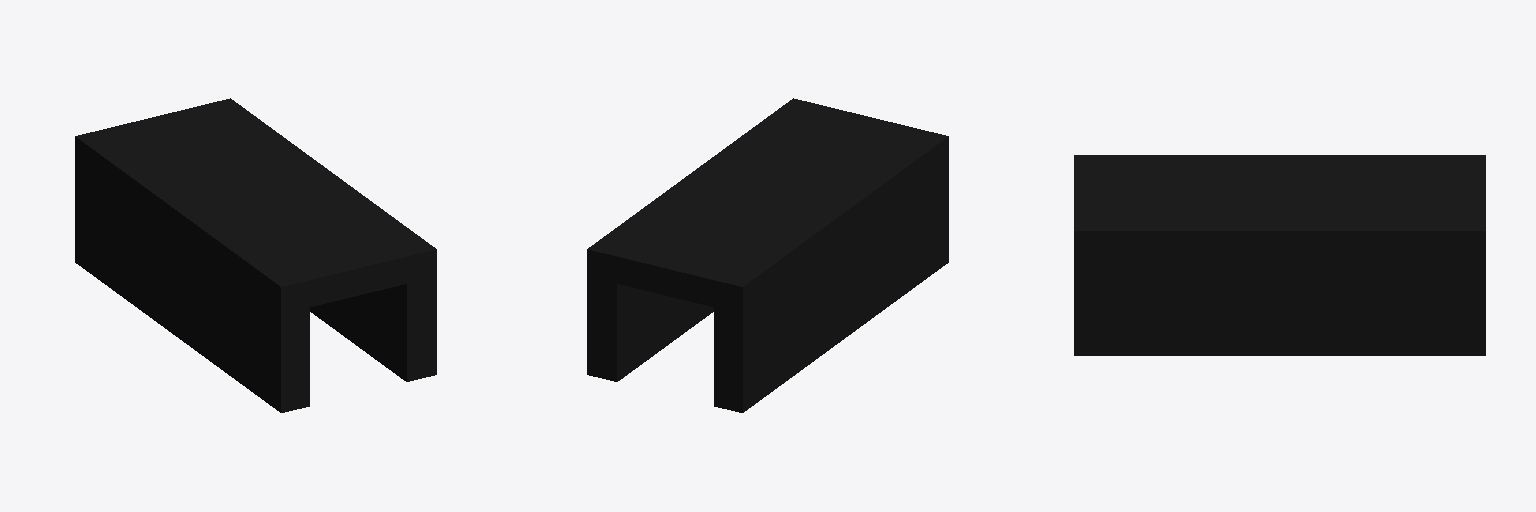
The model's file is tunnel.obj.
3 renders of one model, left to right at view 1: azimuth 30°, elevation 25°; view 2: azimuth 150°, elevation 25°; view 3: azimuth 270°, elevation 25°, orthographic.
Parts seen in each view (by area): view 1: Cube; view 2: Cube; view 3: Cube.
Boxes of the visible parts, x1,y1,x2,y2 form: Cube: [75, 98, 436, 412]; Cube: [587, 98, 948, 412]; Cube: [1074, 155, 1485, 355].
Size of the model in its own units: 10.7 by 8.31 by 24.55.